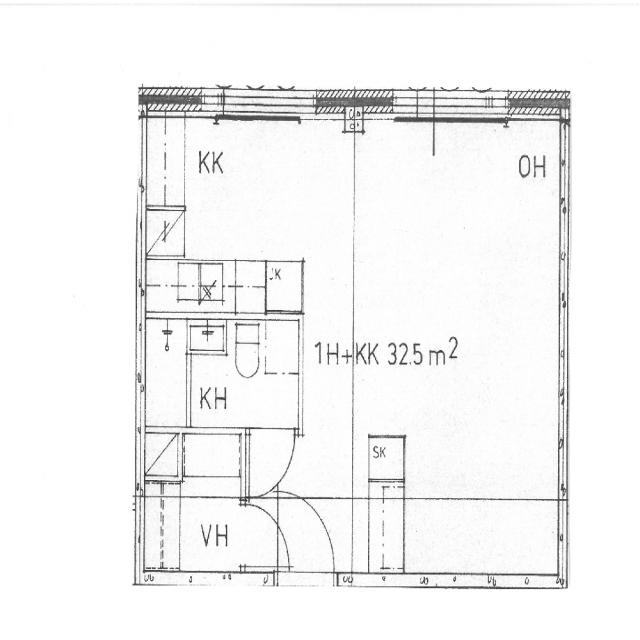door: (277, 493, 334, 586), (249, 426, 295, 498), (241, 504, 289, 566)
